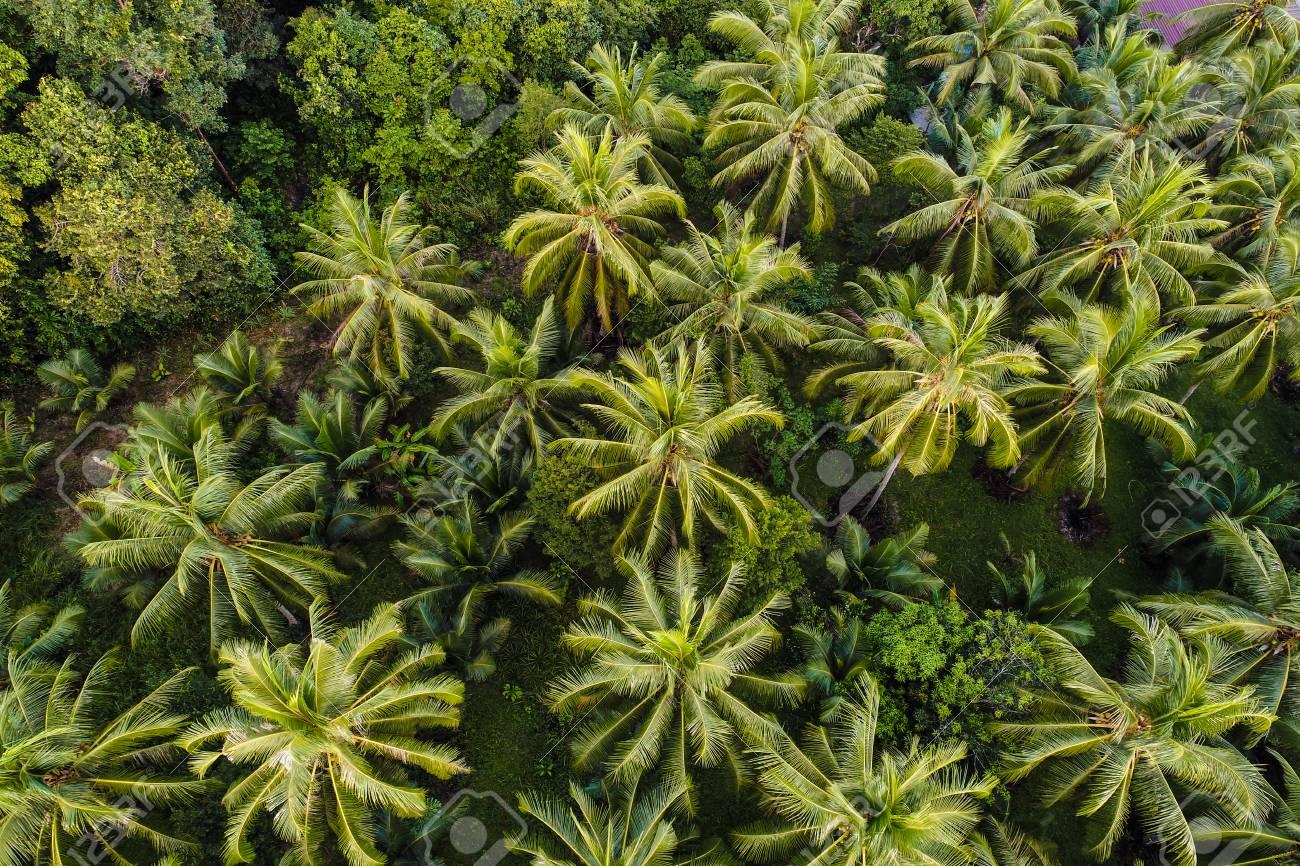coconut_tree: (1002, 613, 1250, 865), (210, 644, 474, 865), (812, 273, 1076, 494), (92, 420, 356, 641), (554, 573, 818, 794), (545, 343, 809, 564), (783, 667, 1012, 865), (295, 175, 494, 378), (4, 659, 192, 865), (505, 119, 668, 324), (1035, 300, 1192, 492), (1054, 110, 1211, 302), (895, 104, 1052, 296), (1163, 515, 1299, 728), (707, 69, 878, 236), (536, 34, 721, 140), (899, 0, 1048, 97)
